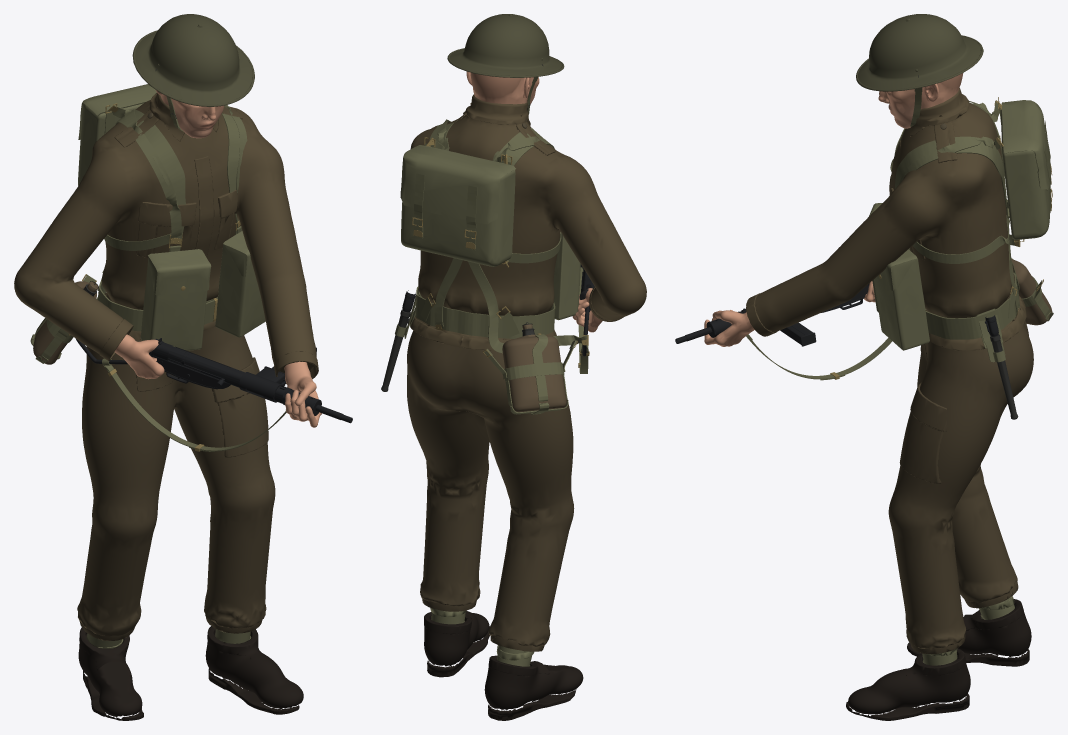
The model's file is leader.glb.
The picture shows the model from 3 angles, left to right: view 1: azimuth 30°, elevation 25°; view 2: azimuth 150°, elevation 25°; view 3: azimuth 270°, elevation 25°; orthographic projection. The views are drawn at different scales.
Parts seen in each view (by area): view 1: trousers, tunic, shell, pouch (×2), sten-parts, boot-l, pocket-map-l, brace (×2), boot-r, lid, l-strap, pocket-chest-r (+20 smaller); view 2: trousers, tunic, flap, haversack, shell, felt, boot-r, brace (×2), belt, carrier, boot-l, pouch (+13 smaller); view 3: trousers, tunic, shell, boot-l, haversack, pouch, pocket-map-l, flap, boot-r, l-strap, head, belt (+13 smaller).
Boxes of the visible parts, <box> form: trousers: <box>77,295,275,636</box>; tunic: <box>14,100,316,372</box>; shell: <box>135,14,252,104</box>; pouch (×2): <box>140,244,265,350</box>; sten-parts: <box>75,338,352,423</box>; boot-l: <box>205,634,303,708</box>; pocket-map-l: <box>211,357,268,457</box>; brace (×2): <box>96,109,243,299</box>; boot-r: <box>78,633,142,716</box>; lid: <box>148,249,211,295</box>; l-strap: <box>104,105,181,250</box>; pocket-chest-r: <box>136,202,196,257</box>; trousers: <box>407,330,574,646</box>; tunic: <box>410,115,646,340</box>; flap: <box>400,145,515,224</box>; haversack: <box>401,170,515,266</box>; shell: <box>450,14,561,75</box>; felt: <box>502,334,566,412</box>; boot-r: <box>484,664,583,709</box>; brace (×2): <box>429,120,587,353</box>; belt: <box>415,286,555,338</box>; carrier: <box>484,334,576,414</box>; boot-l: <box>424,611,489,666</box>; pouch: <box>553,233,580,320</box>; trousers: <box>888,294,1033,648</box>; tunic: <box>755,103,1019,332</box>; shell: <box>858,14,980,89</box>; boot-l: <box>848,657,970,714</box>; haversack: <box>1000,109,1049,239</box>; pouch: <box>874,258,929,350</box>; pocket-map-l: <box>899,382,947,483</box>; flap: <box>1001,100,1050,190</box>; boot-r: <box>958,611,1031,656</box>; l-strap: <box>899,136,1015,263</box>; head: <box>878,73,963,128</box>; belt: <box>931,272,1019,339</box>.
Bounding box in the file's own units: 0.6647 × 1.77 × 0.9132.
